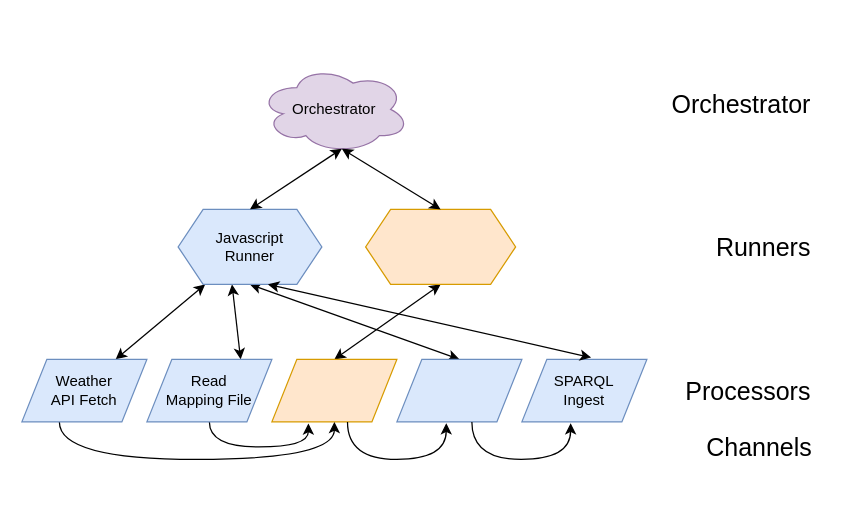
Image size: 844x518. Some labels were removed from this diagram. The shapes that lost their labels are listed below. From the top down, each one's centre as x and y in pixels, then its label:
point (440, 246): JVM Runner
point (334, 390): RML Mapper
point (459, 390): SHACL Validate
